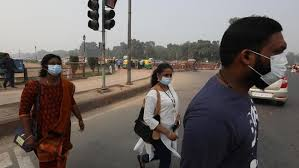mask: (227, 19, 291, 95), (44, 55, 63, 76), (156, 64, 172, 86)
